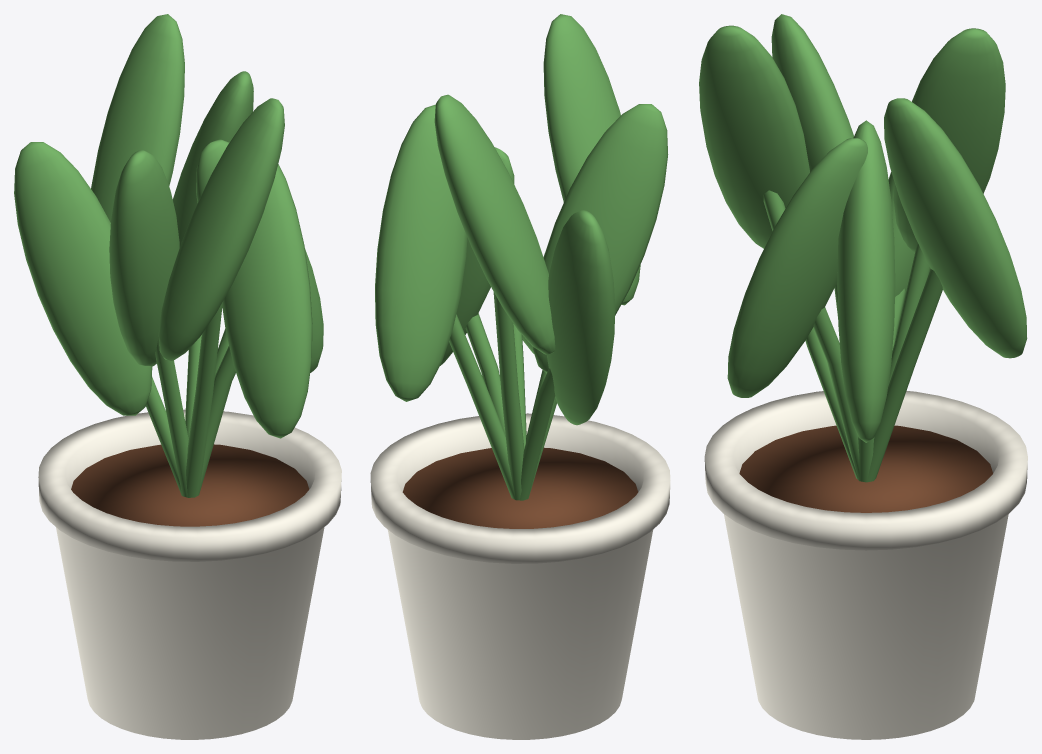
Rendered from PLANT.glb.
3 views of the same model, side by side, from view 1: azimuth 30°, elevation 25°; view 2: azimuth 150°, elevation 25°; view 3: azimuth 270°, elevation 25° (orthographic). The views are drawn at different scales.
Parts seen in each view (by area): view 1: PLANT; view 2: PLANT; view 3: PLANT.
Boxes of the visible parts, <box> form: PLANT: <box>14,14,341,739</box>; PLANT: <box>370,14,670,739</box>; PLANT: <box>699,14,1027,739</box>.
Size of the model in its own units: 0.3404 by 0.7876 by 0.3459.
